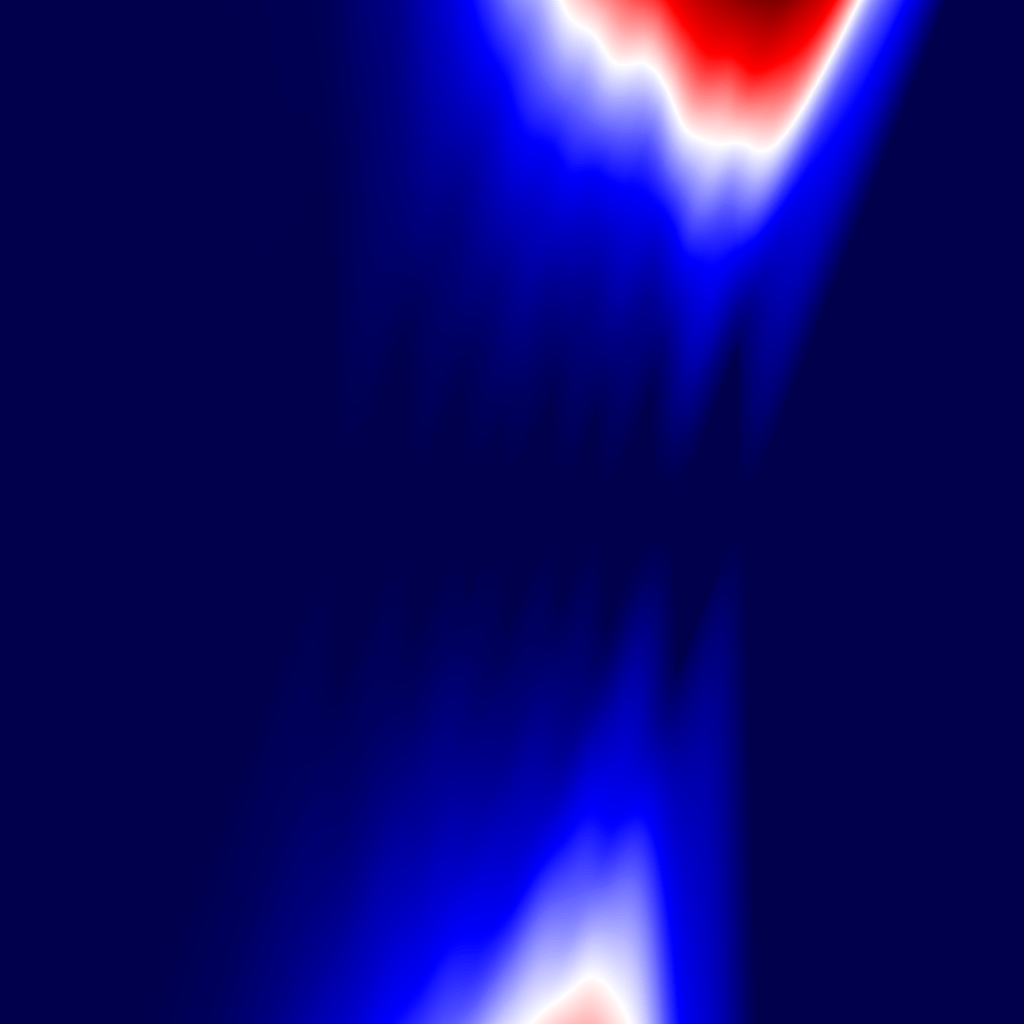diamond: (206, 191, 340, 833), (674, 340, 745, 684), (340, 341, 411, 683), (411, 380, 466, 644), (604, 383, 658, 641), (507, 387, 559, 637), (559, 404, 604, 620), (467, 418, 506, 606), (658, 474, 674, 550)
